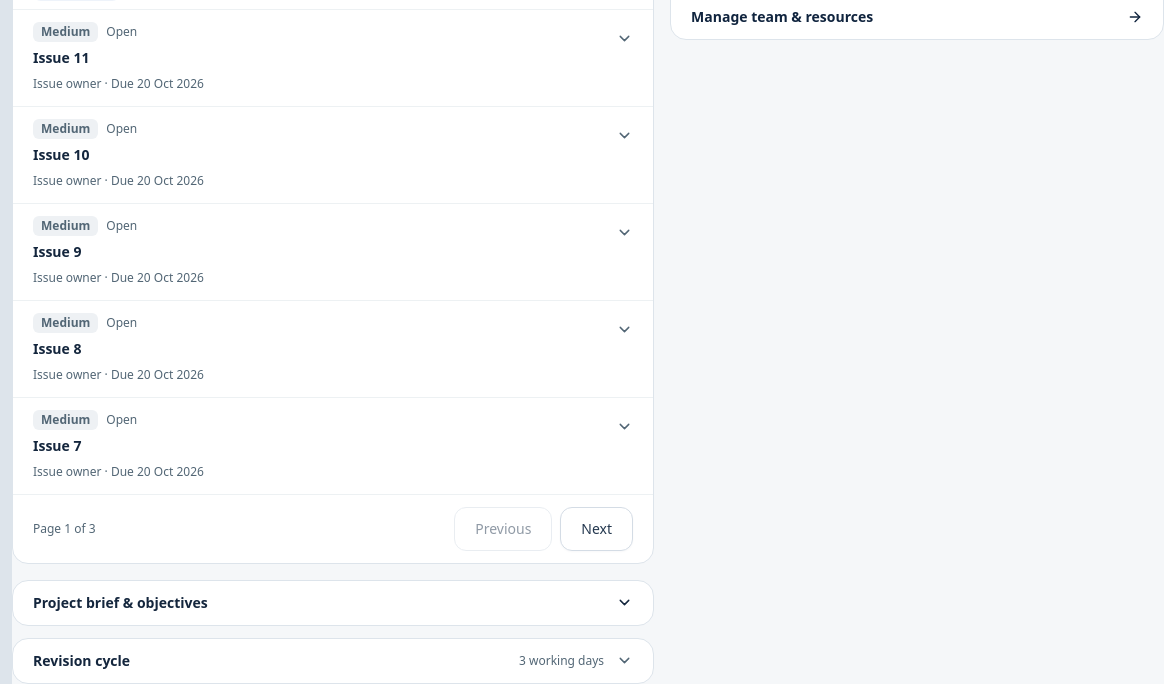
Test: issue pagination › shows five issues per page with endpoint controls, live page status and focus on results
(page scrolled)
expect the message reads "Page 1 of 3": met, box [33, 521, 96, 537]
expect the button "Previous" is disabled: met, box [454, 507, 552, 551]
Click the button "Next". click: (597, 529)
box: [560, 507, 633, 551]
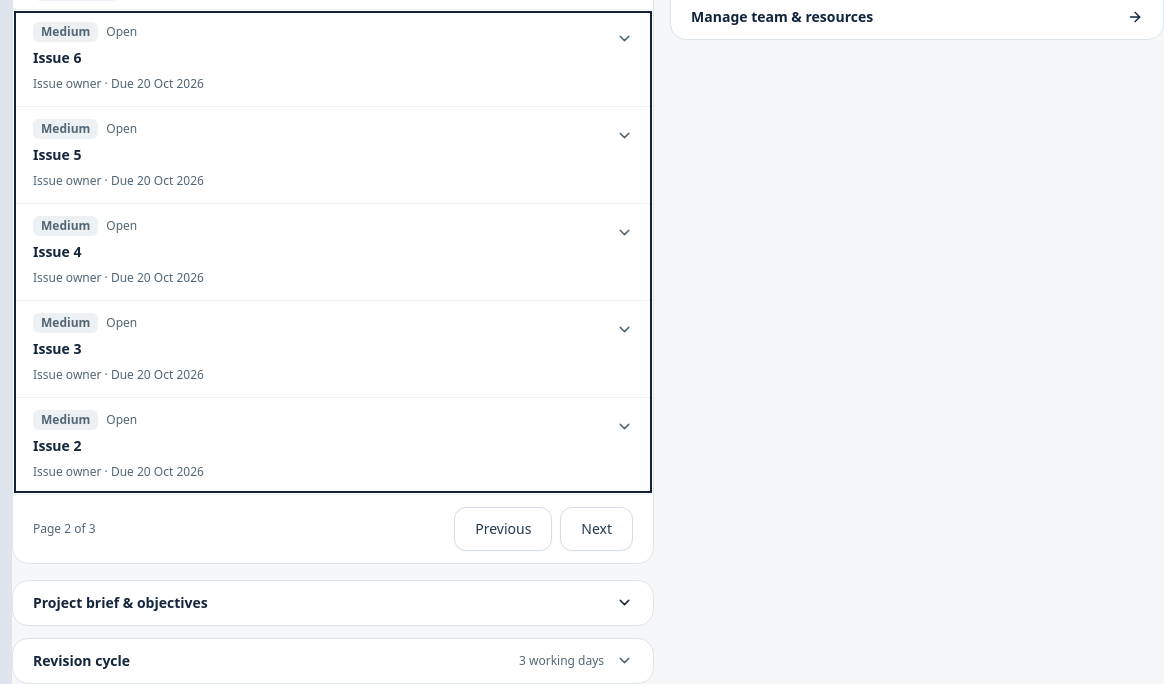
Click the button "Next". click: (597, 529)
box: [560, 507, 633, 551]
(page scrolled)
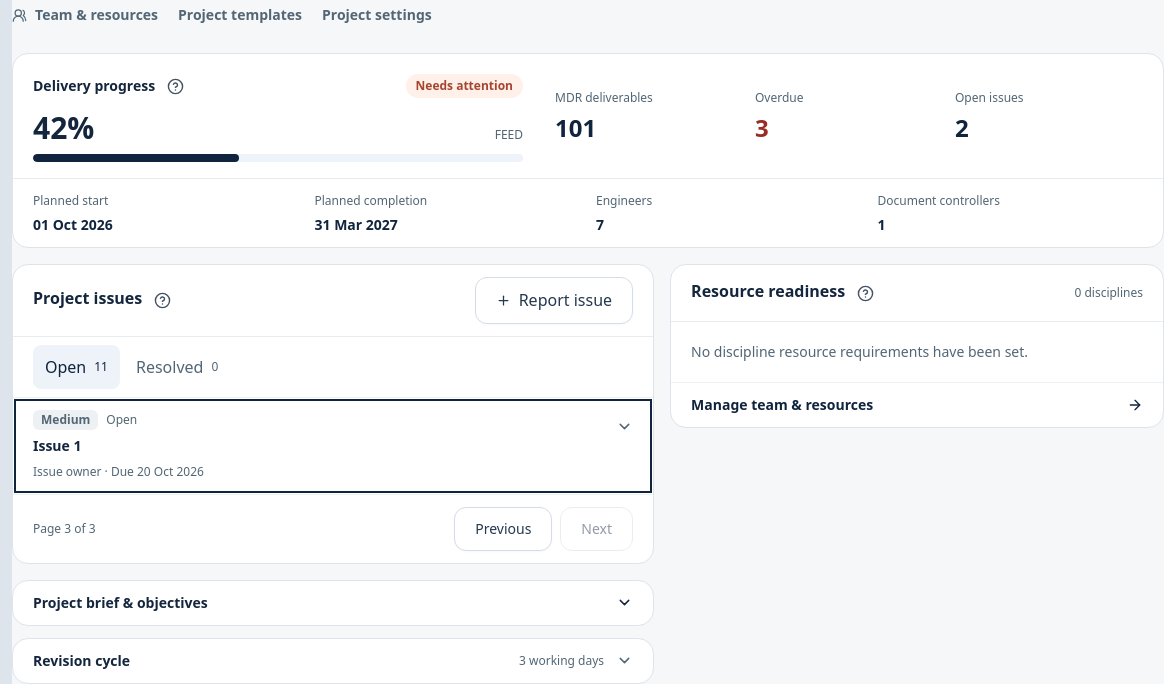
expect the message reads "Page 3 of 3": met, box [33, 521, 96, 537]
expect the button "Next" is disabled: met, box [560, 507, 633, 551]
Click the button "Previous". click: (503, 529)
box: [454, 507, 552, 551]
(page scrolled)
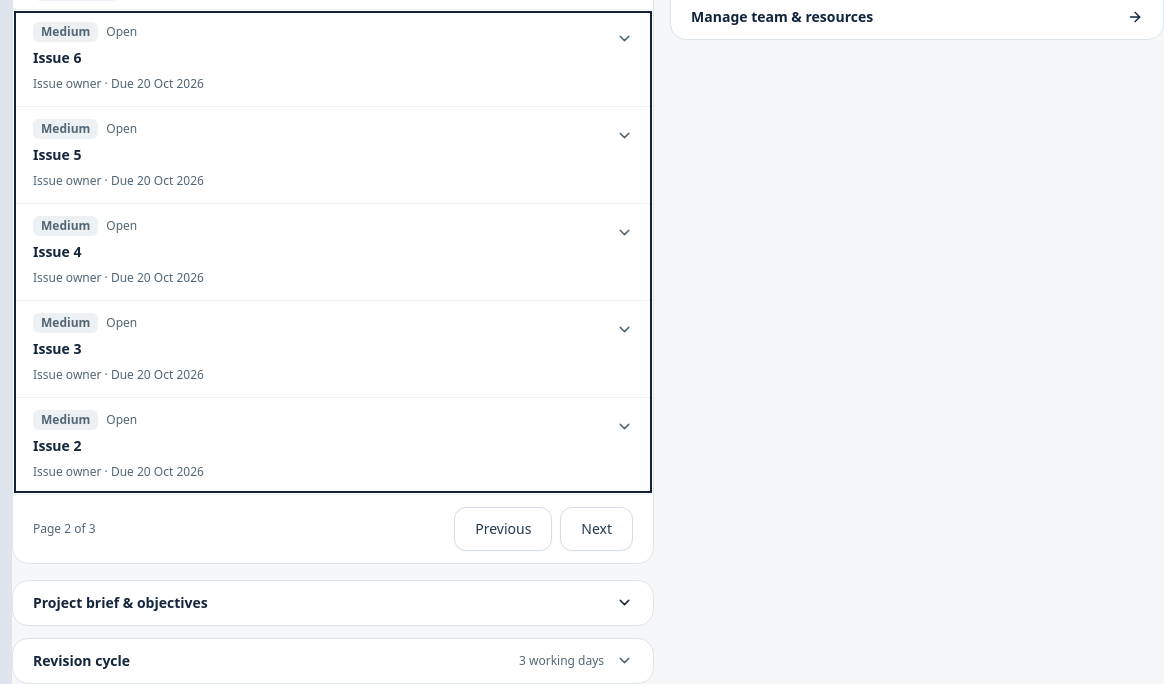
expect the message reads "Page 2 of 3": met, box [33, 521, 96, 537]
